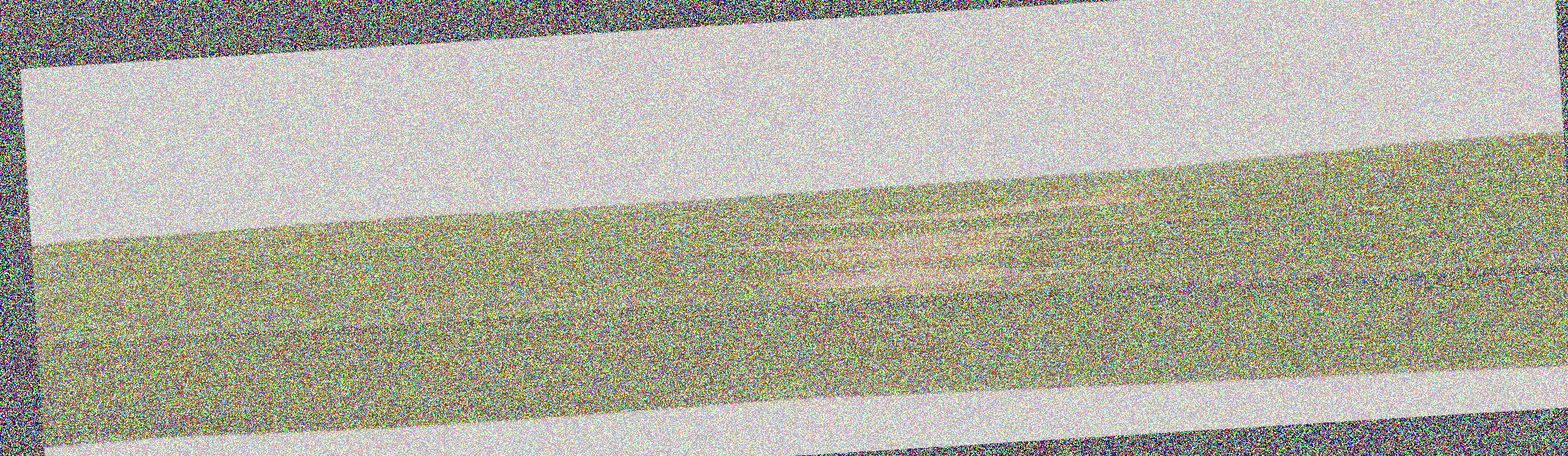Leaf_Blast: (661, 172, 1219, 325)
